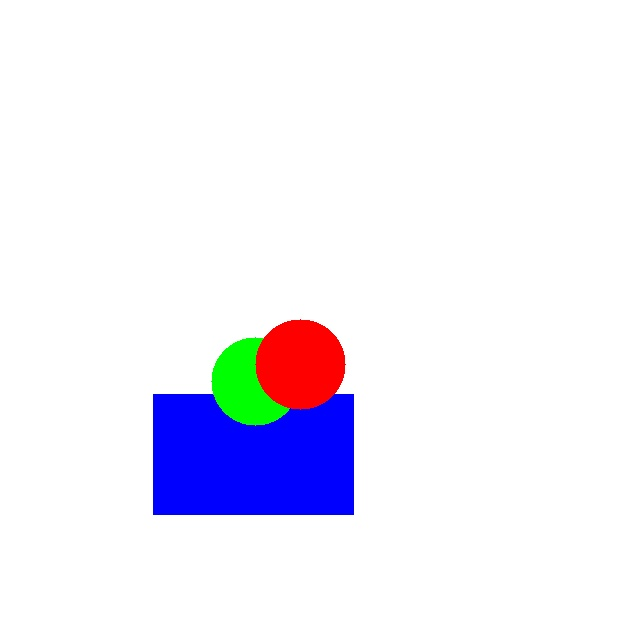cartao: (153, 394, 353, 514)
rosca_externa: (211, 337, 299, 425)
rosca_interna: (255, 319, 345, 409)
